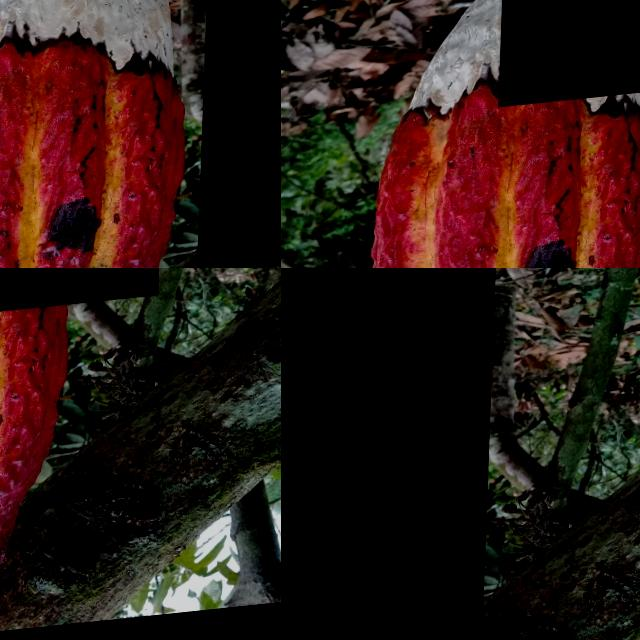Monilia: (281, 268, 497, 640), (500, 0, 640, 112)
Sana: (200, 0, 281, 268), (145, 418, 203, 484)
